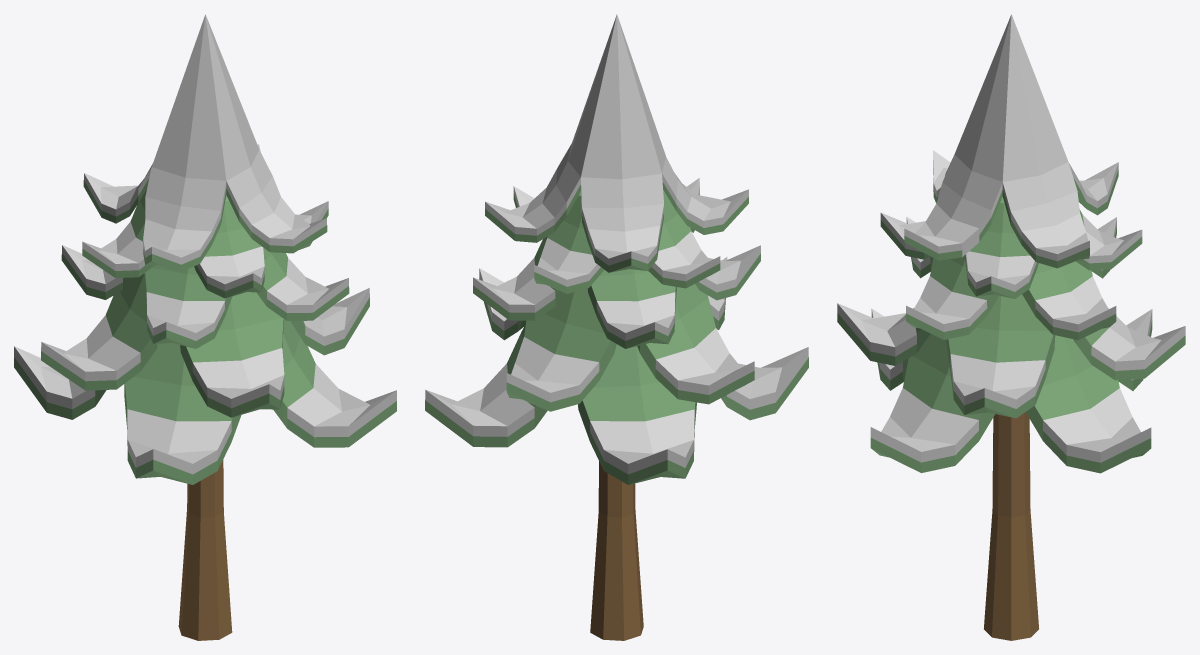
The model's file is PineTreeTall_Snow.fbx.
3 views of the same model, side by side, from view 1: azimuth 30°, elevation 25°; view 2: azimuth 150°, elevation 25°; view 3: azimuth 270°, elevation 25° (orthographic).
Visible parts, largest first — view 1: PineTreeTall_Snow; view 2: PineTreeTall_Snow; view 3: PineTreeTall_Snow.
Boxes of the visible parts, x1,y1,x2,y2 form: PineTreeTall_Snow: [14, 14, 396, 640]; PineTreeTall_Snow: [425, 14, 808, 640]; PineTreeTall_Snow: [837, 14, 1185, 640].
Bounding box in the file's own units: 356 × 695 × 356.
